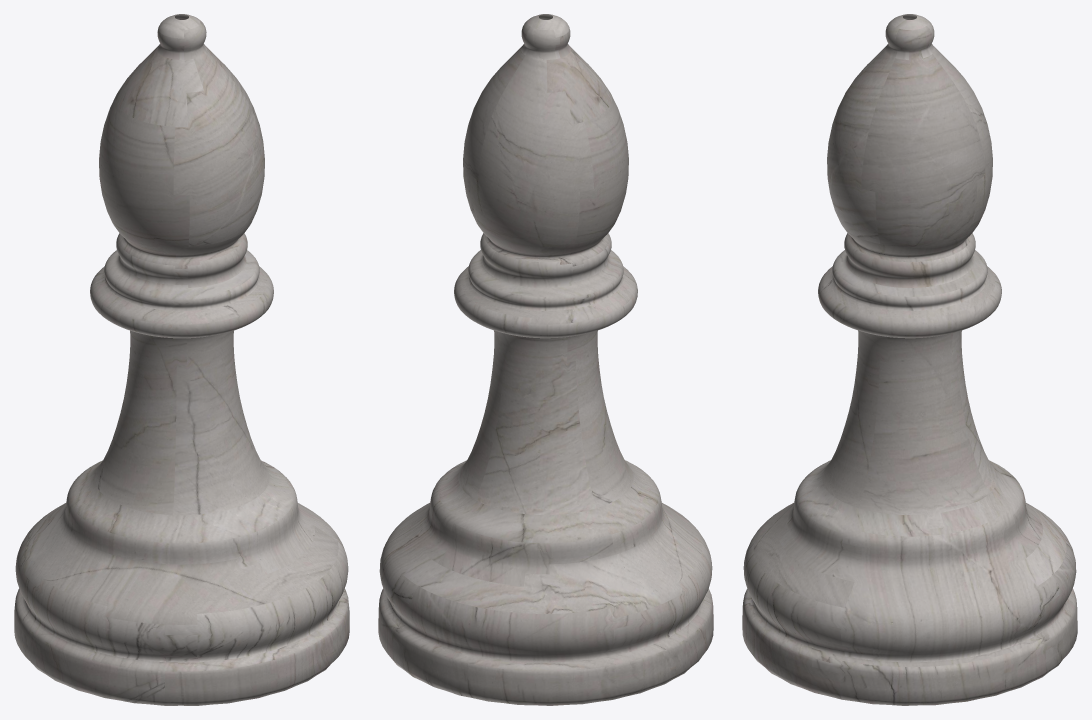
Rendered from WBishop.glb.
The picture shows the model from 3 angles, left to right: view 1: azimuth 30°, elevation 25°; view 2: azimuth 150°, elevation 25°; view 3: azimuth 270°, elevation 25°; orthographic projection.
Parts seen in each view (by area): view 1: Circle.022; view 2: Circle.022; view 3: Circle.022.
Boxes of the visible parts, bbox=[...] form: Circle.022: bbox=[14, 14, 349, 705]; Circle.022: bbox=[378, 14, 713, 705]; Circle.022: bbox=[742, 14, 1077, 705].
Bounding box in the file's own units: 2.67 × 5.49 × 2.67.
Materials: 1 (1 with a texture image).
